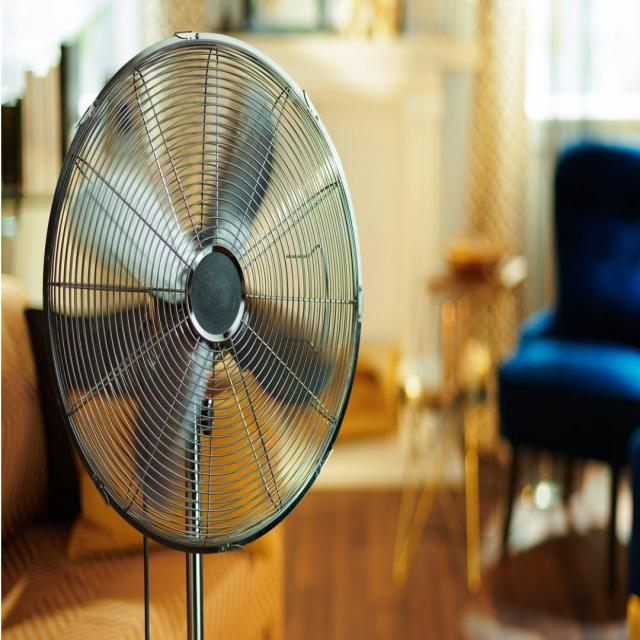fan: (38, 36, 366, 636)
